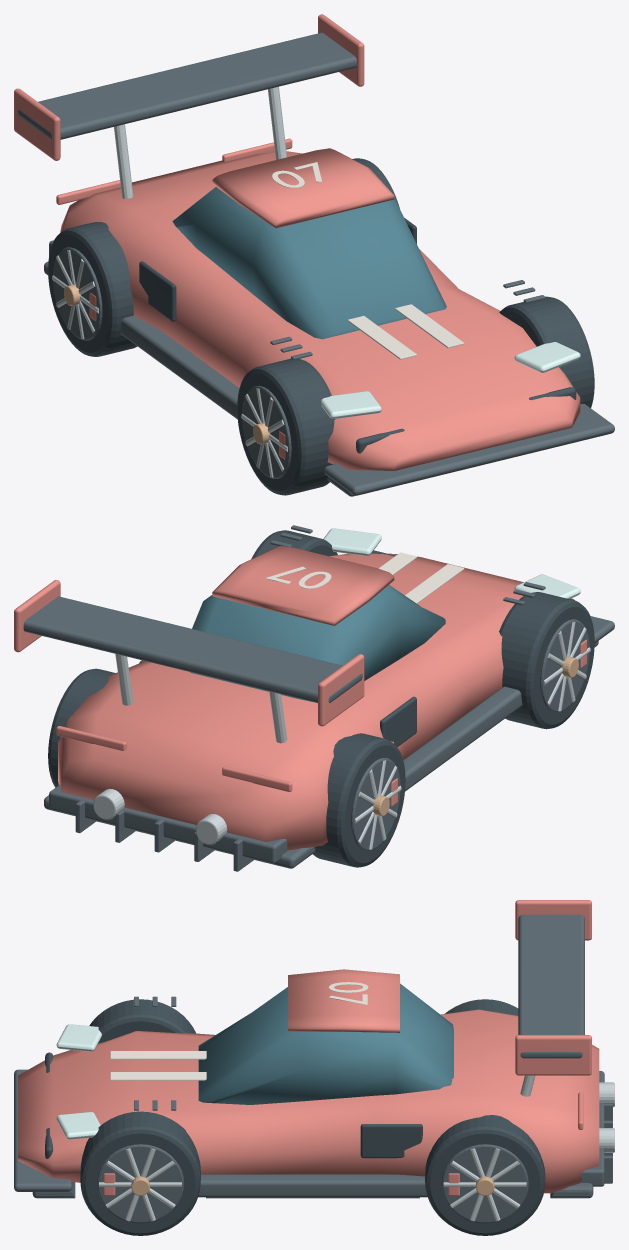
Rendered from Pro_Scrapper.fbx.
3 views of the same model, one above another, from view 1: azimuth 30°, elevation 25°; view 2: azimuth 150°, elevation 25°; view 3: azimuth 270°, elevation 25° (orthographic). The views are drawn at different scales.
Parts seen in each view (by area): view 1: Sculpted GT coachwork, Panoramic glazing, Carbon rear wing, Painted roof, Wheel_FL, Wheel_RL, Front splitter, Wheel_FR, Side skirt, Brake rotor, Brake rotor.001, Wing endplate (+8 smaller); view 2: Sculpted GT coachwork, Carbon rear wing, Panoramic glazing, Painted roof, Wheel_FL, Wheel_RL, Side skirt, Diffuser, Brake rotor.001, Brake rotor, Wheel_RR, Wing endplate (+14 smaller); view 3: Sculpted GT coachwork, Panoramic glazing, Carbon rear wing, Wheel_FR, Painted roof, Wheel_RR, Side skirt.001, Brake rotor.002, Brake rotor.003, Wing endplate.001, Wheel_FL, Side cooling duct.001 (+9 smaller).
Boxes of the visible parts, <box> form: Sculpted GT coachwork: <box>60,151,580,470</box>; Panoramic glazing: <box>172,187,446,339</box>; Carbon rear wing: <box>18,32,356,139</box>; Painted roof: <box>212,148,394,228</box>; Wheel_FL: <box>237,358,335,495</box>; Wheel_RL: <box>48,222,137,356</box>; Front splitter: <box>324,403,614,495</box>; Wheel_FR: <box>499,296,594,407</box>; Side skirt: <box>120,315,239,419</box>; Brake rotor: <box>53,247,102,340</box>; Brake rotor.001: <box>242,385,291,478</box>; Wing endplate: <box>14,88,60,160</box>; Sculpted GT coachwork: <box>58,553,523,850</box>; Carbon rear wing: <box>23,596,362,702</box>; Panoramic glazing: <box>190,585,445,701</box>; Painted roof: <box>212,545,394,625</box>; Wheel_FL: <box>499,592,594,729</box>; Wheel_RL: <box>313,733,405,867</box>; Side skirt: <box>403,686,522,791</box>; Diffuser: <box>49,784,287,863</box>; Brake rotor.001: <box>540,619,589,712</box>; Brake rotor: <box>351,758,400,850</box>; Wheel_RR: <box>48,668,115,787</box>; Wing endplate: <box>318,654,364,726</box>; Sculpted GT coachwork: <box>18,1009,599,1193</box>; Panoramic glazing: <box>198,983,453,1104</box>; Carbon rear wing: <box>518,914,584,1058</box>; Wheel_FR: <box>80,1111,200,1235</box>; Painted roof: <box>288,969,399,1032</box>; Wheel_RR: <box>425,1115,545,1235</box>; Side skirt.001: <box>198,1174,427,1197</box>; Brake rotor.002: <box>441,1144,528,1223</box>; Brake rotor.003: <box>97,1144,184,1223</box>; Wing endplate.001: <box>515,1035,591,1075</box>; Wheel_FL: <box>89,999,196,1043</box>; Side cooling duct.001: <box>360,1124,422,1158</box>.
Bounding box in the file's own units: 161 × 108 × 290.
